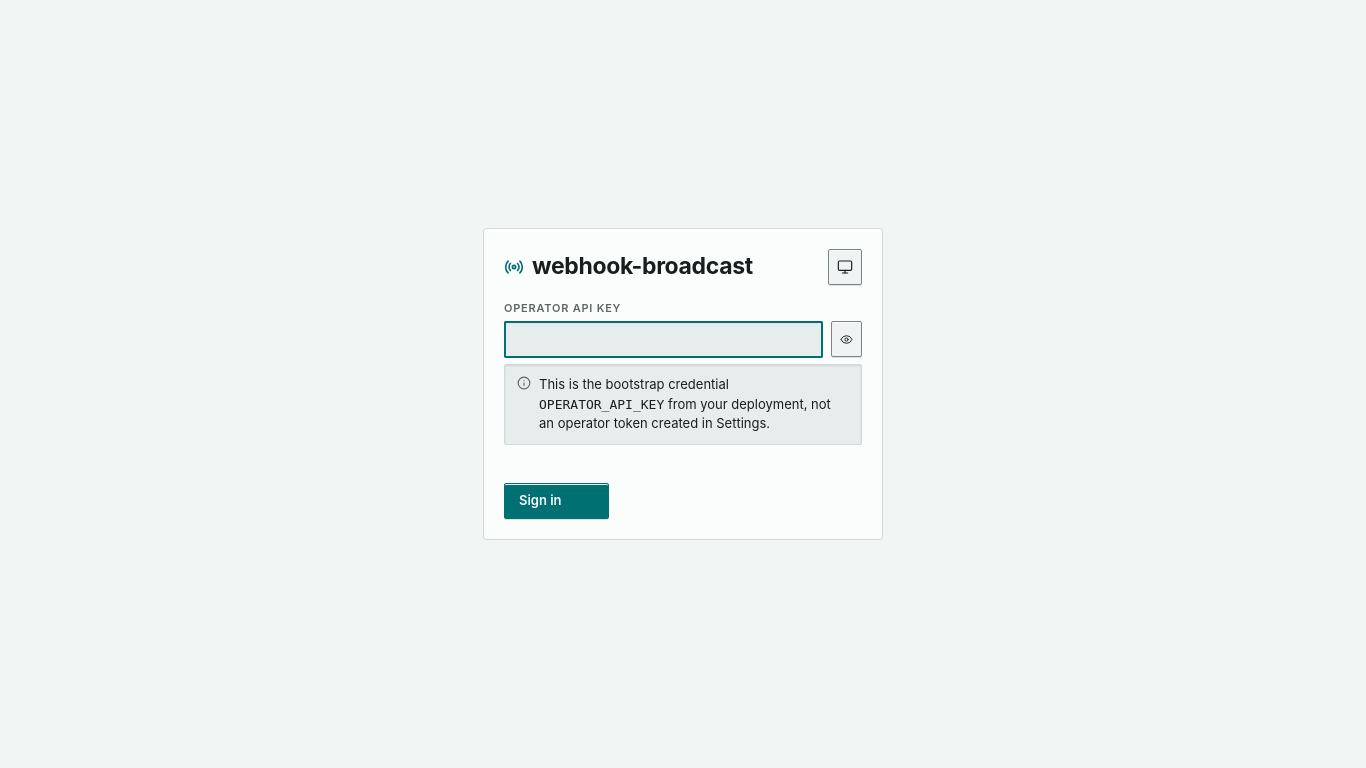
it: dashboard smoke flow › logs in, then shows the Channel directory populated from the API
Type "test-operator-key" into the field labelled "Operator API key" at (664, 340), box [504, 321, 823, 358]
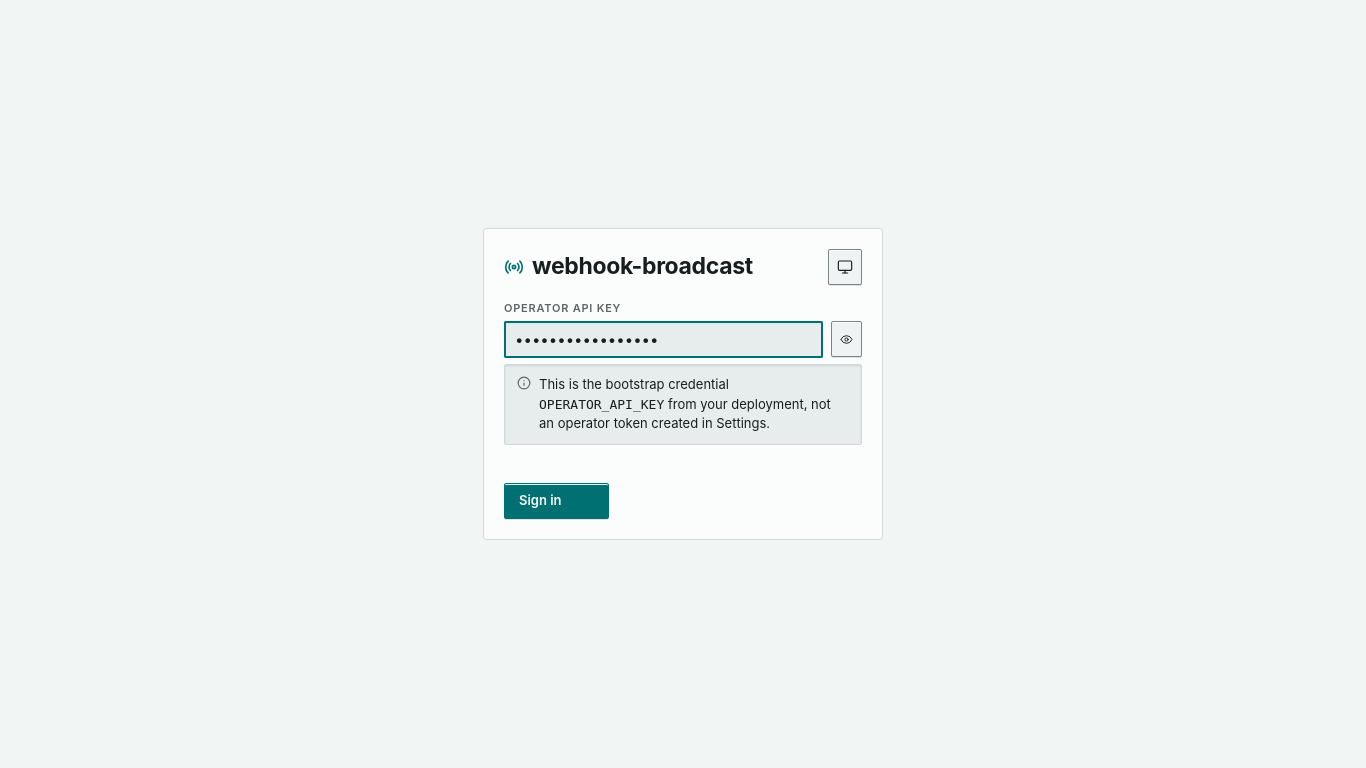
Click the button "Sign in" at (556, 501), box [504, 483, 608, 519]
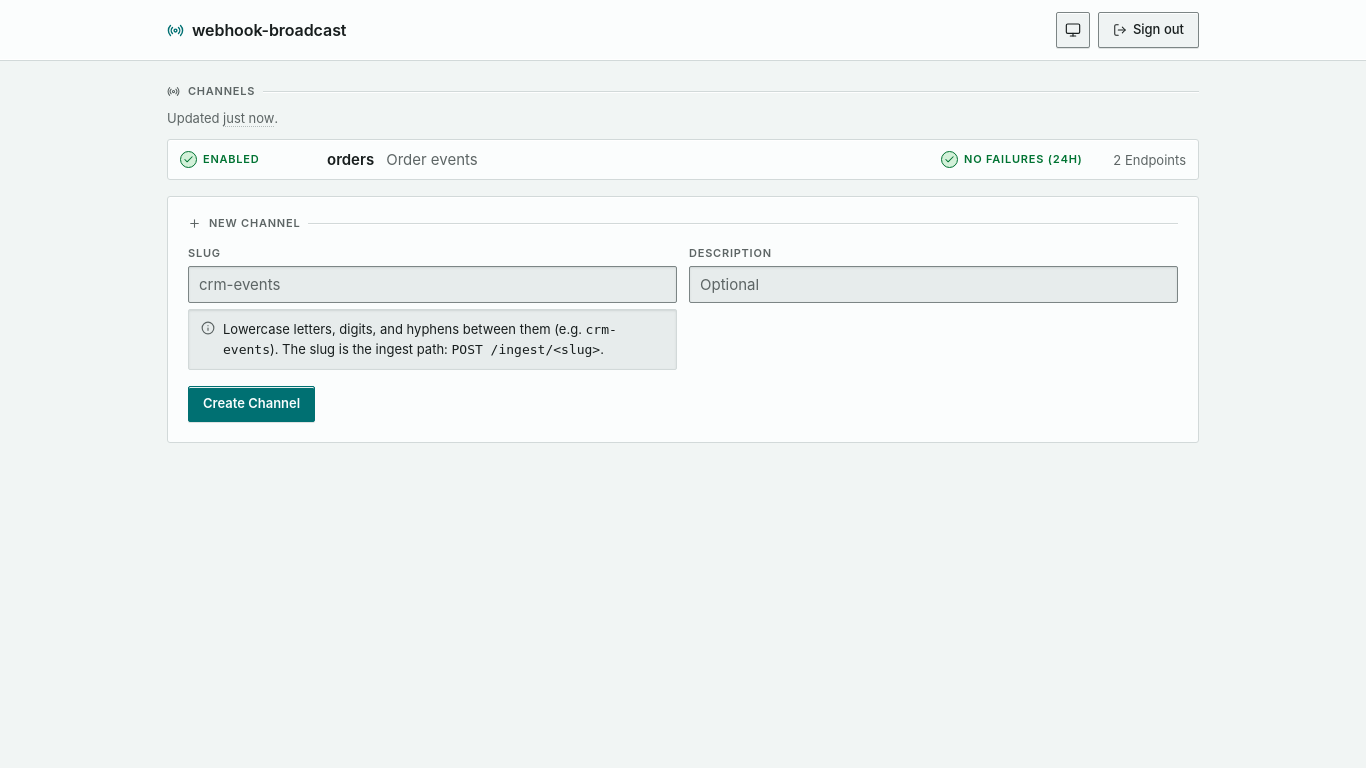
expect the text "orders" is shown: met, box [327, 150, 374, 169]
expect the text "2 Endpoints" is shown: met, box [1113, 152, 1186, 168]
